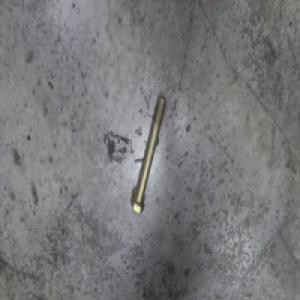Bolt: (129, 96, 168, 212)
